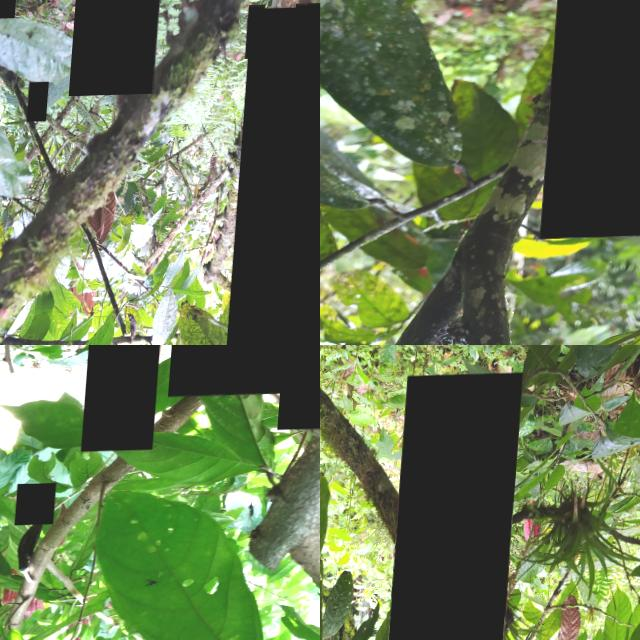Fitoftora: (234, 8, 320, 345), (72, 0, 171, 97), (32, 83, 53, 122), (0, 0, 18, 19)
Monilia: (546, 0, 640, 240)
Sana: (389, 375, 526, 640), (87, 345, 166, 452), (22, 484, 63, 526), (296, 5, 320, 52), (249, 7, 268, 61)
